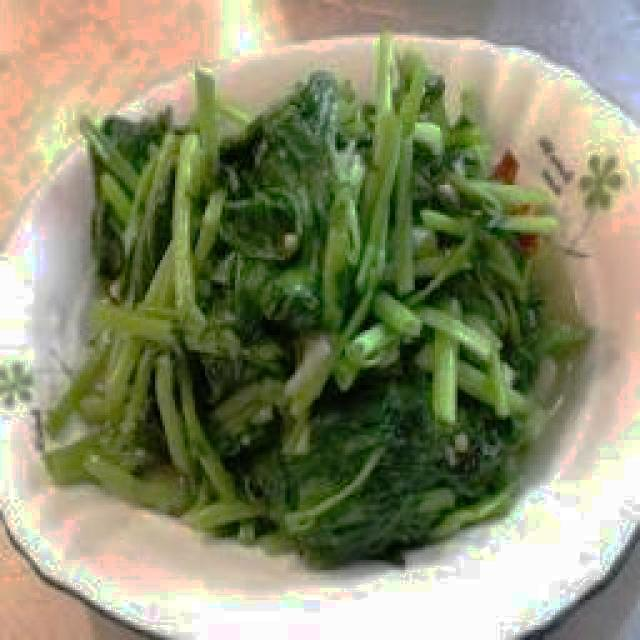water_spinach: (35, 47, 618, 554)
